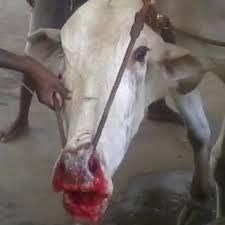bleeding: (55, 156, 110, 217)
